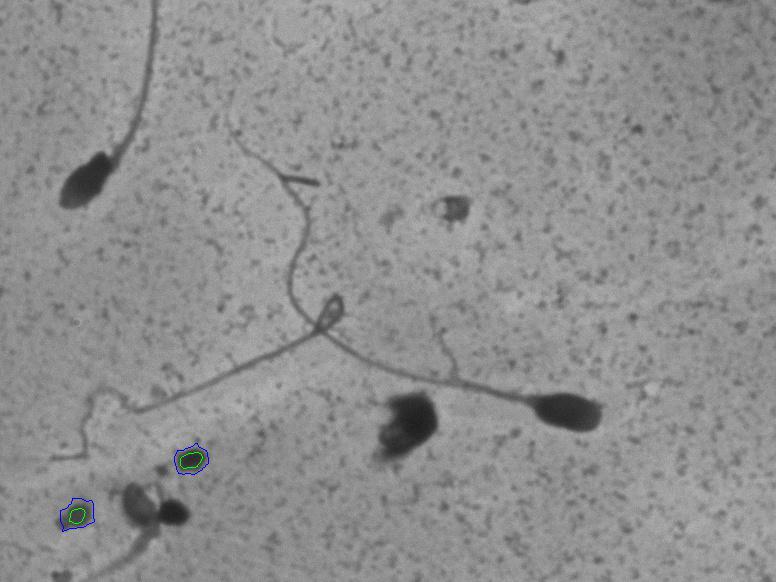Abnormal: (212, 75, 614, 447), (43, 11, 185, 227)
